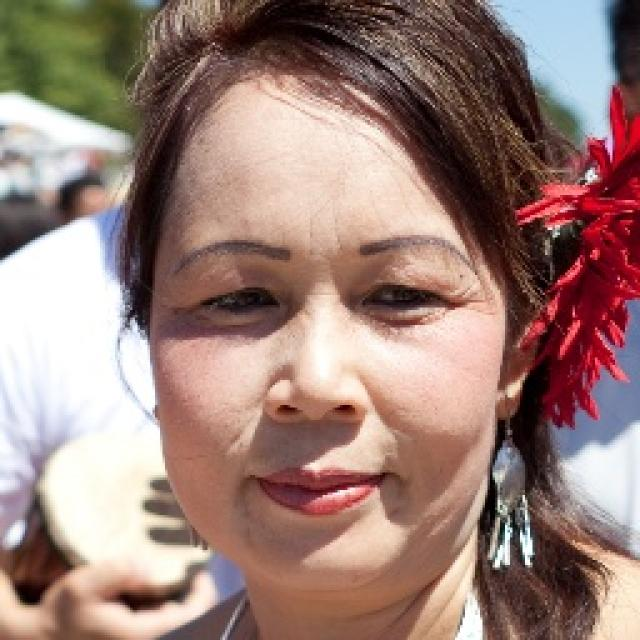earlobe: (490, 385, 528, 425)
eye: (358, 279, 456, 319), (195, 280, 281, 322)
nose: (268, 406, 362, 455)
wholeear: (494, 302, 546, 422)
